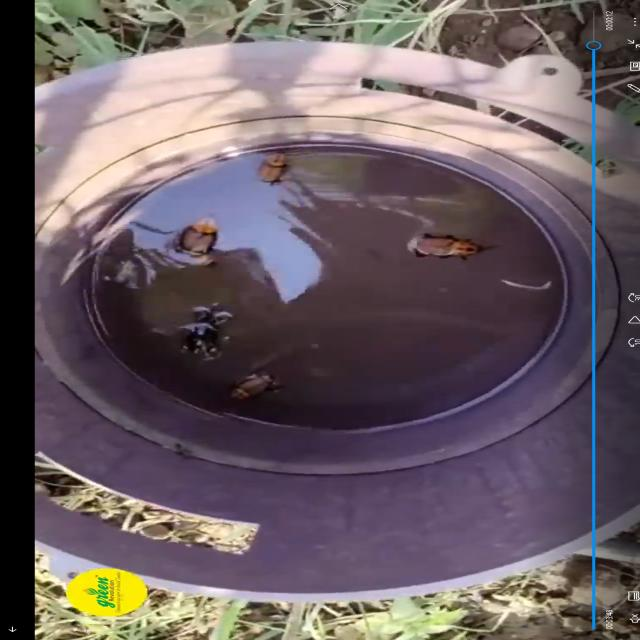Red-palm-weevil: (404, 232, 476, 268), (166, 218, 220, 262), (222, 370, 280, 402), (245, 152, 289, 186)
Rhino-beetle: (173, 298, 244, 356)
